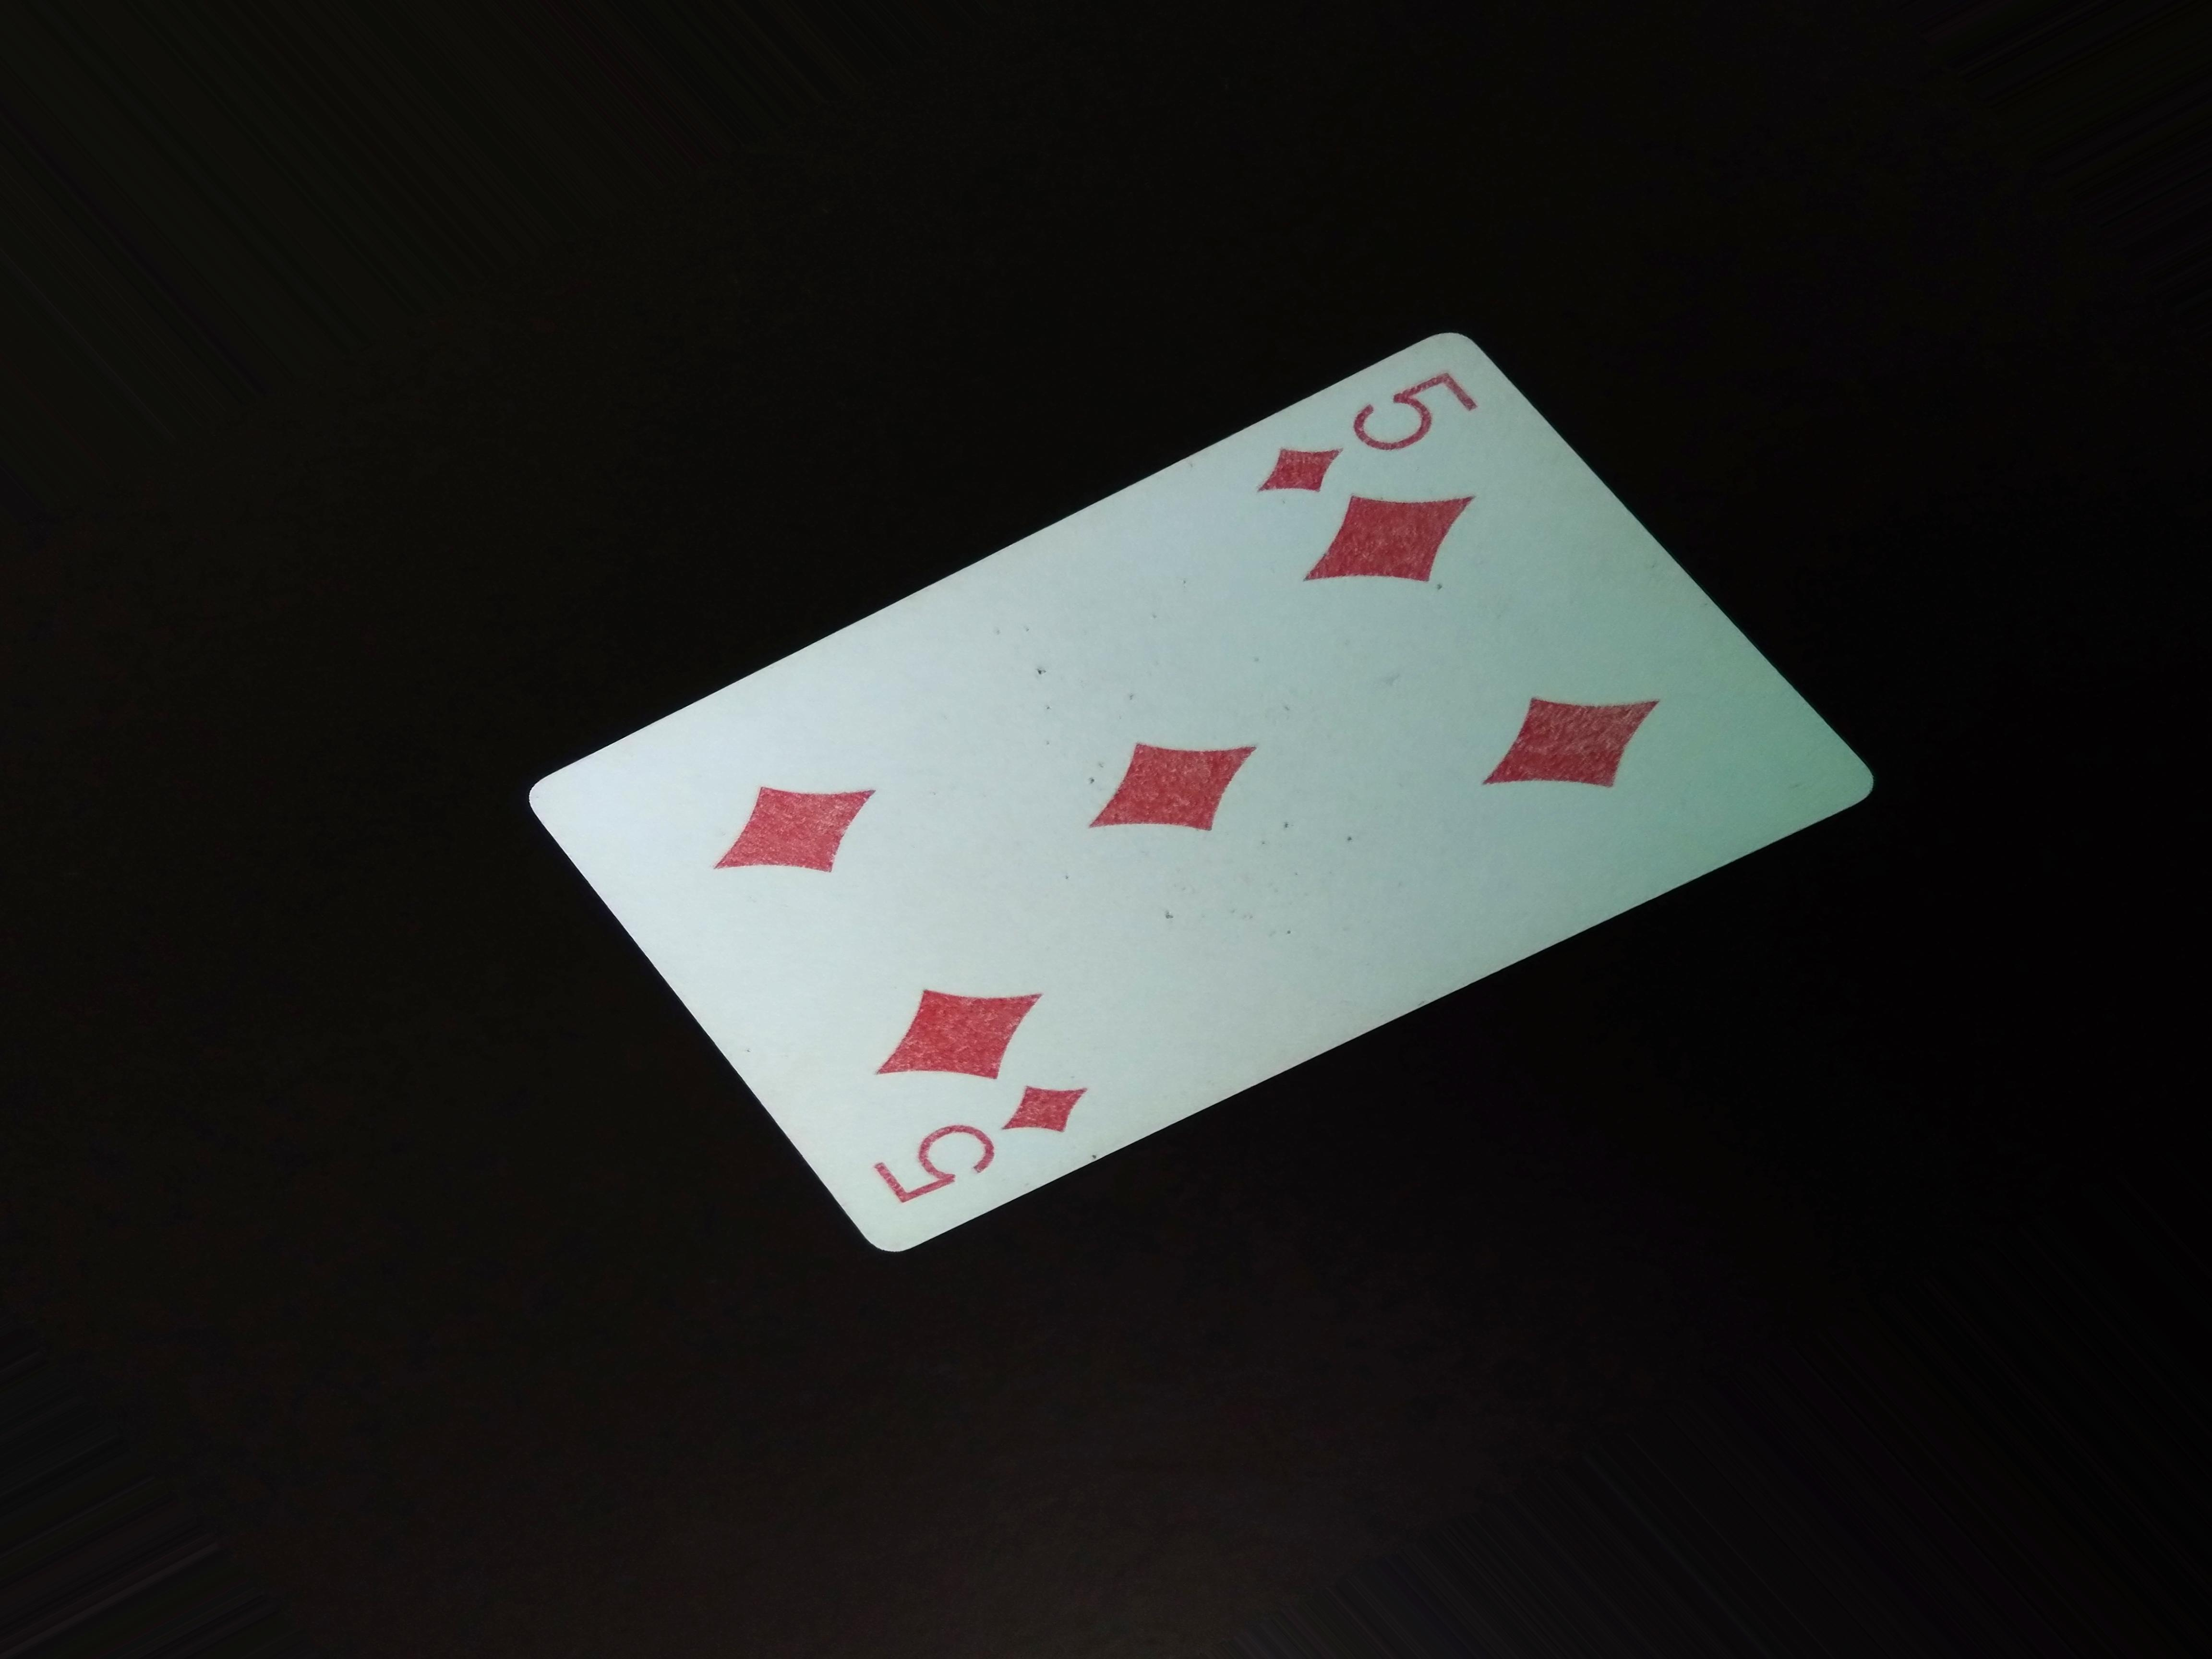5D: (831, 1080, 1097, 1195)
